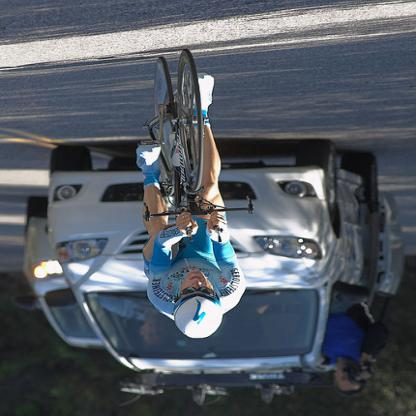bicycle: (138, 49, 258, 246)
car: (50, 142, 386, 409), (12, 198, 108, 351)
person: (137, 73, 249, 341), (322, 292, 385, 398)
